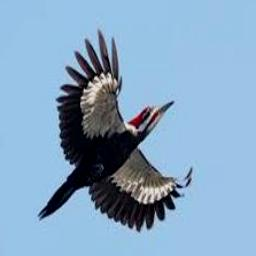Woodpecker: (38, 28, 193, 231)
